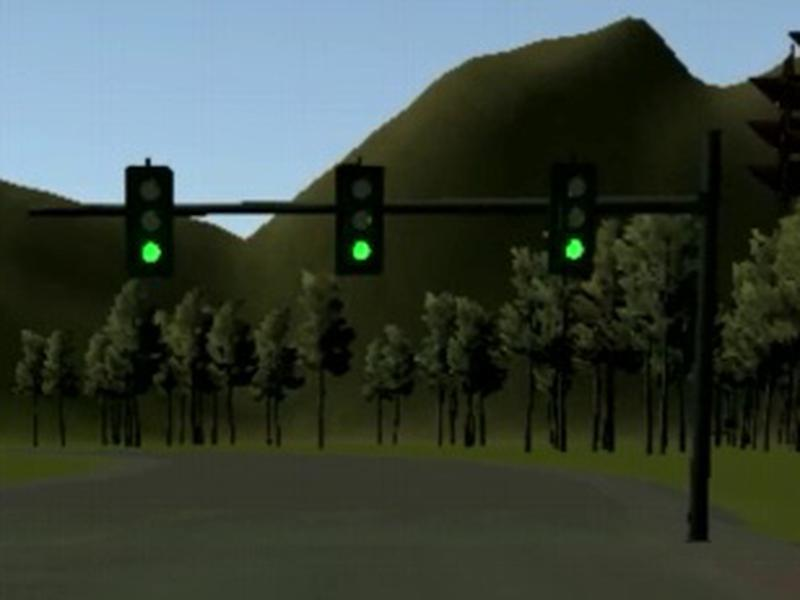Green: (548, 161, 598, 276), (334, 165, 385, 277), (126, 166, 175, 277)
